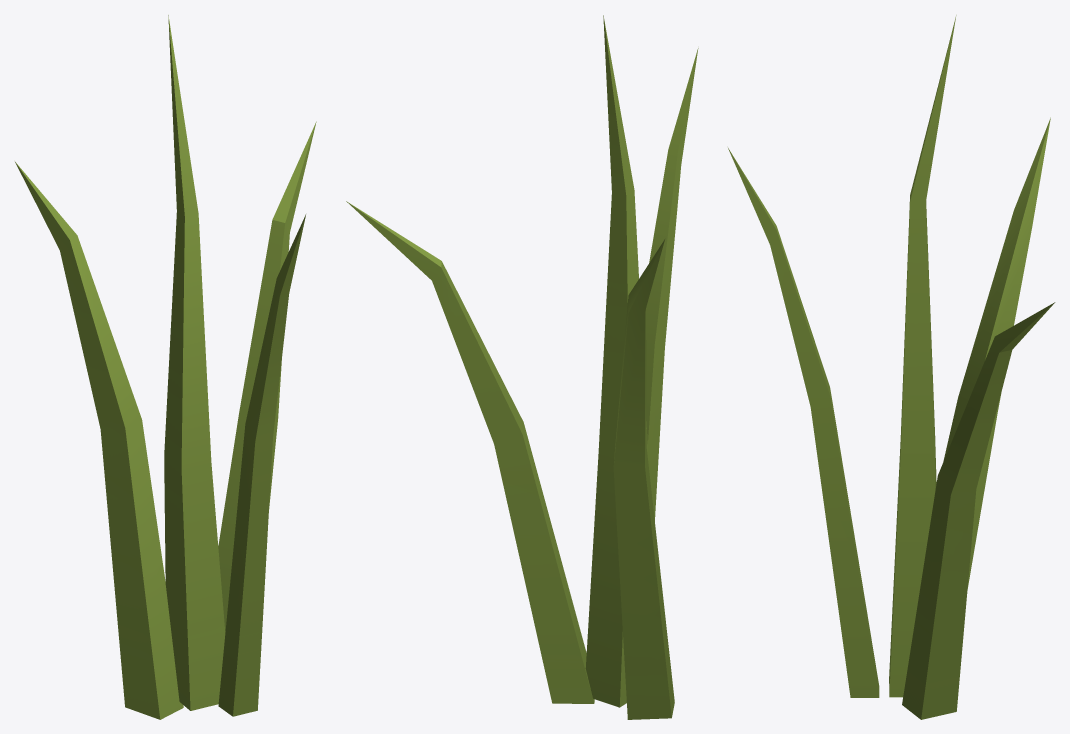
File: Spring_Grass_05.glb
3 views of the same model, side by side, from view 1: azimuth 30°, elevation 25°; view 2: azimuth 150°, elevation 25°; view 3: azimuth 270°, elevation 25° (orthographic). The views are drawn at different scales.
Parts seen in each view (by area): view 1: Spring_Grass_05_LOD0; view 2: Spring_Grass_05_LOD0; view 3: Spring_Grass_05_LOD0.
Part boxes in pixels (<box>): Spring_Grass_05_LOD0: <box>15,15,316,719</box>; Spring_Grass_05_LOD0: <box>346,15,698,719</box>; Spring_Grass_05_LOD0: <box>728,15,1055,719</box>.
Size of what is drawn, in the model's own units: 0.2159 by 0.458 by 0.2017.
1 material, 1 textured.
